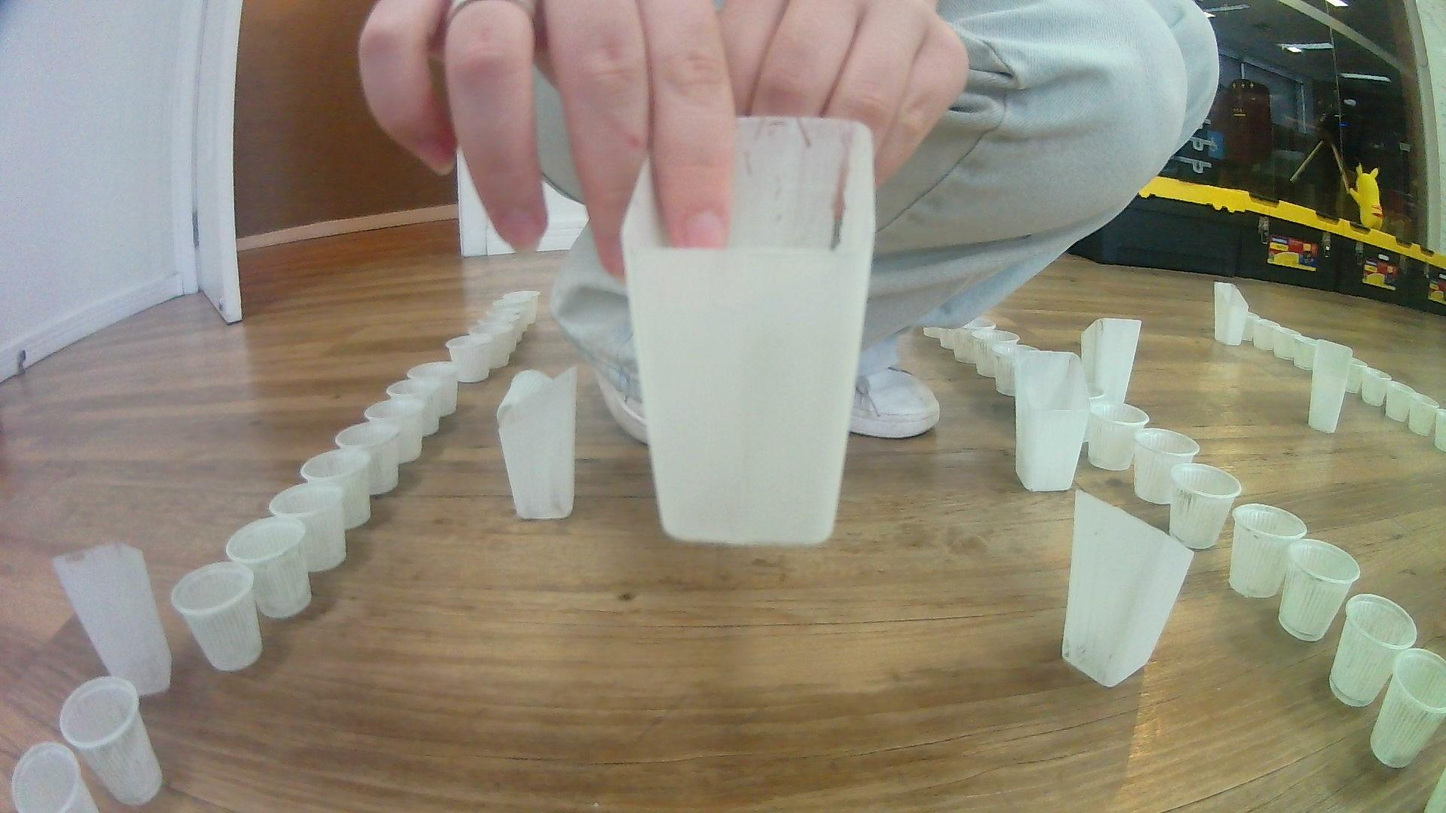erva_daninha: (621, 114, 877, 550), (1061, 489, 1197, 689), (49, 540, 175, 699), (494, 365, 581, 522), (1013, 348, 1093, 493), (1080, 316, 1143, 412), (1307, 338, 1354, 433), (1213, 281, 1250, 347)
planta: (59, 674, 163, 808), (169, 561, 264, 674), (1328, 593, 1417, 709), (1368, 647, 1446, 770), (224, 517, 313, 620), (1277, 538, 1362, 643), (1228, 503, 1308, 599), (269, 480, 347, 574), (1167, 461, 1243, 551), (10, 741, 99, 813), (299, 447, 371, 531), (1133, 427, 1202, 506), (335, 420, 402, 495), (1087, 403, 1151, 473), (365, 399, 423, 465), (386, 379, 441, 439), (407, 361, 459, 416), (994, 344, 1040, 397), (445, 333, 490, 384), (466, 321, 511, 369), (975, 330, 1020, 378), (940, 316, 996, 351), (476, 311, 520, 354), (490, 299, 530, 340), (953, 327, 996, 364), (505, 289, 541, 325), (1409, 396, 1440, 437), (1386, 382, 1416, 422), (1361, 370, 1391, 407), (1252, 319, 1283, 352), (1272, 327, 1303, 360), (1241, 305, 1271, 337), (1292, 336, 1319, 371), (1348, 358, 1368, 393), (922, 323, 955, 340), (1434, 407, 1446, 452)
